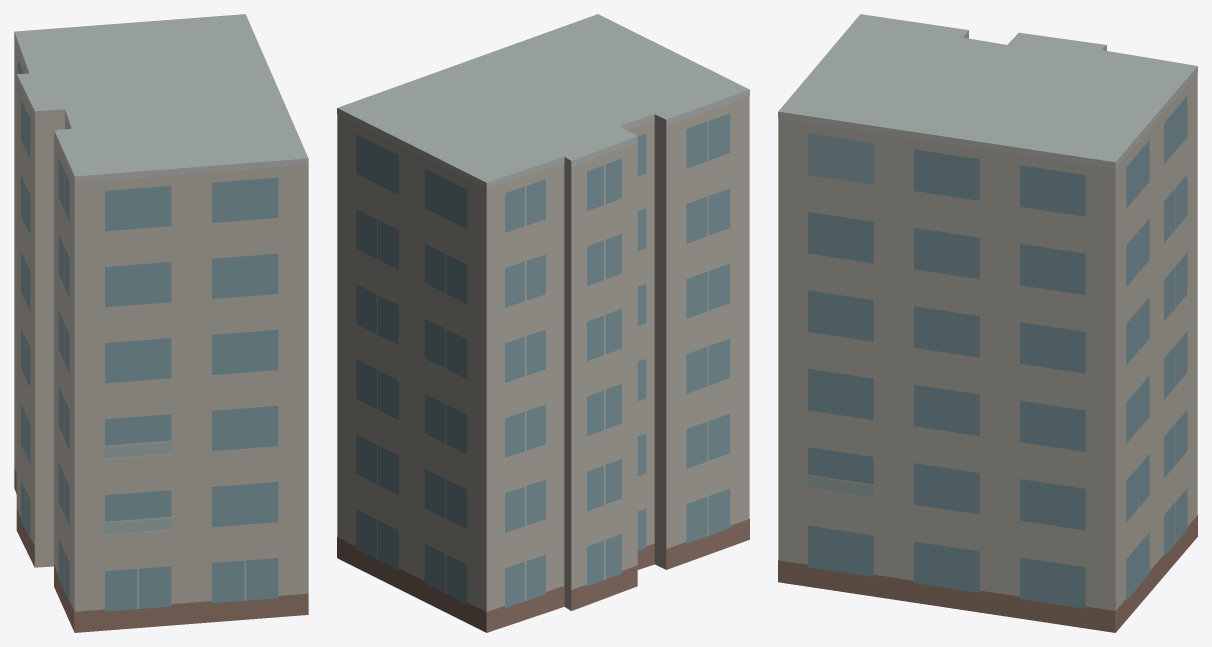
The model's file is survey-upis-32898263.glb.
3 renders of one model, left to right at view 1: azimuth 30°, elevation 25°; view 2: azimuth 150°, elevation 25°; view 3: azimuth 270°, elevation 25°, orthographic. The views are drawn at different scales.
Visible parts, largest first — view 1: survey-upis-32898263.tmp; view 2: survey-upis-32898263.tmp; view 3: survey-upis-32898263.tmp.
Boxes of the visible parts, x1,y1,x2,y2 form: survey-upis-32898263.tmp: (14,14,308,632); survey-upis-32898263.tmp: (337,14,749,632); survey-upis-32898263.tmp: (778,14,1197,632).
Size of the model in its own units: 12 by 17.75 by 14.36.
